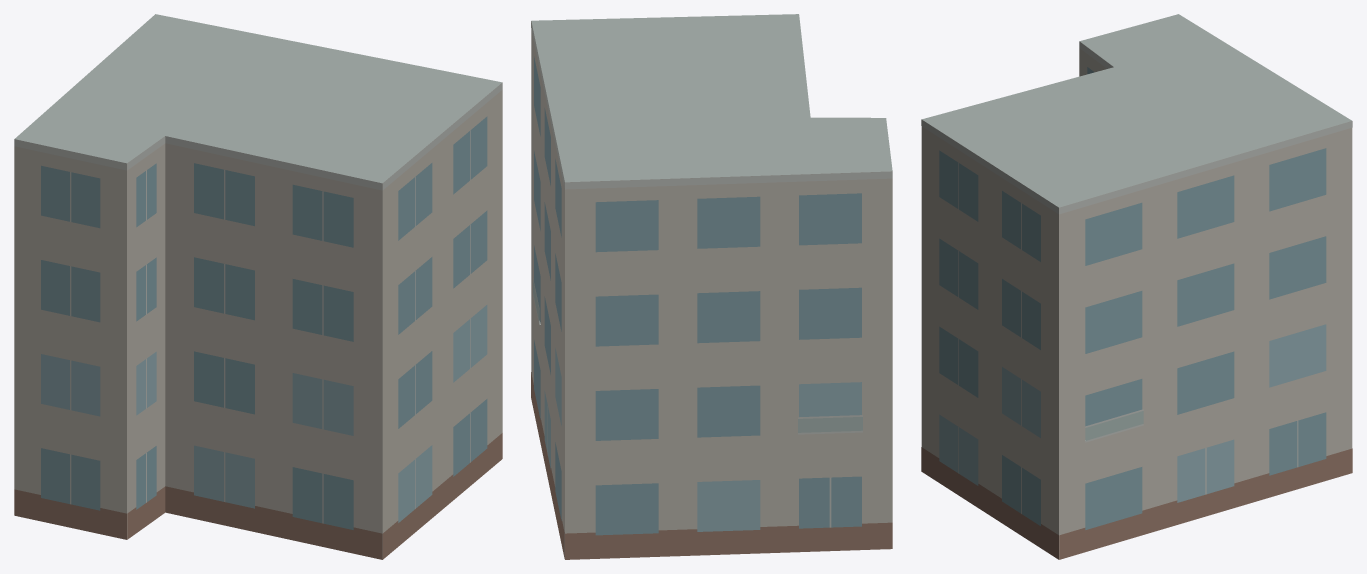
File: survey-upis-33010364.glb
3 renders of one model, left to right at view 1: azimuth 30°, elevation 25°; view 2: azimuth 150°, elevation 25°; view 3: azimuth 270°, elevation 25°, orthographic. The views are drawn at different scales.
Visible parts, largest first — view 1: survey-upis-33010364.tmp; view 2: survey-upis-33010364.tmp; view 3: survey-upis-33010364.tmp.
Boxes of the visible parts, box(x1,y1,x2,y2) form: survey-upis-33010364.tmp: box(14, 14, 502, 559); survey-upis-33010364.tmp: box(531, 14, 892, 559); survey-upis-33010364.tmp: box(921, 14, 1352, 559).
Size of the model in its own units: 15.01 by 12.72 by 14.11.
